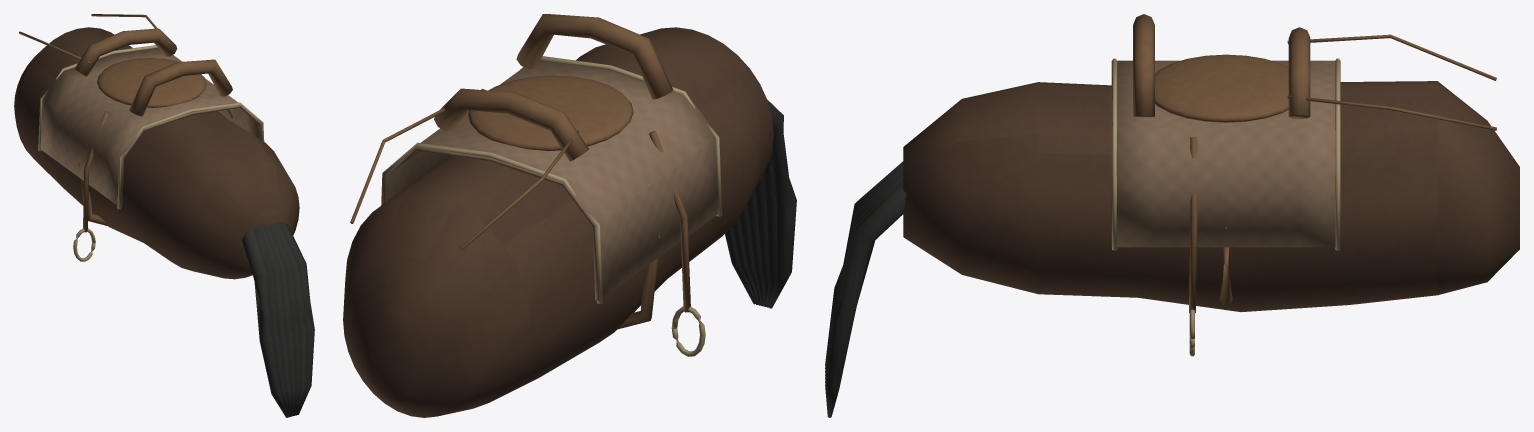
The model's file is body_lod0.glb.
3 renders of one model, left to right at view 1: azimuth 30°, elevation 25°; view 2: azimuth 150°, elevation 25°; view 3: azimuth 270°, elevation 25°, orthographic. The views are drawn at different scales.
Visible parts, largest first — view 1: agro_body_LOD0; view 2: agro_body_LOD0; view 3: agro_body_LOD0.
Part boxes in pixels (left/top/right/bottom): agro_body_LOD0: left=14, top=14, right=314, bottom=417; agro_body_LOD0: left=343, top=14, right=796, bottom=417; agro_body_LOD0: left=825, top=14, right=1519, bottom=417.
Size of the model in its own units: 0.9995 by 1.45 by 2.37.
Materials: 6 (4 with a texture image).
